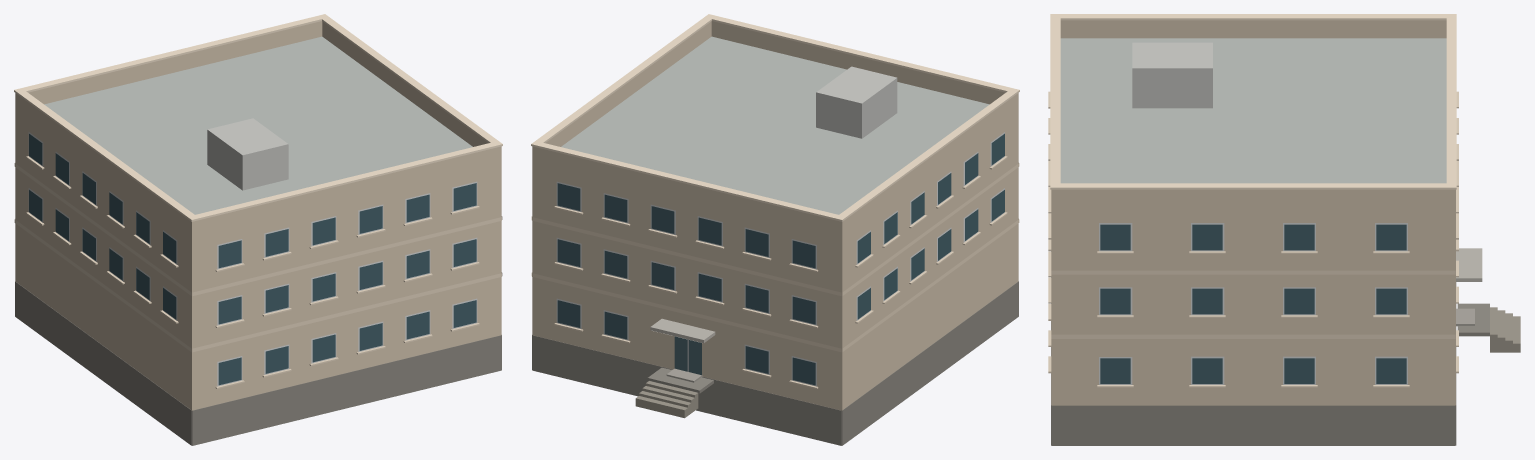
The picture shows the model from 3 angles, left to right: view 1: azimuth 30°, elevation 25°; view 2: azimuth 150°, elevation 25°; view 3: azimuth 270°, elevation 25°; orthographic projection. The views are drawn at different scales.
Parts seen in each view (by area): view 1: w451562720__plaster-wall, w451562720__roof, w451562720__foundation-wall, w451562720__glass, w451562720__coping-stone, w451562720__band-wall, w451562720__box-wall, w451562720__frame; view 2: w451562720__plaster-wall, w451562720__roof, w451562720__foundation-wall, w451562720__glass, w451562720__coping-stone, w451562720__band-wall, w451562720__box-wall, w451562720__frame, w451562720__step-stone, w451562720__door-glass, w451562720__canopy-slab; view 3: w451562720__plaster-wall, w451562720__roof, w451562720__foundation-wall, w451562720__glass, w451562720__coping-stone, w451562720__band-wall, w451562720__box-wall, w451562720__frame, w451562720__step-stone, w451562720__canopy-slab.
Boxes of the visible parts, x1,y1,x2,y2 form: w451562720__plaster-wall: (15, 21, 501, 410); w451562720__roof: (44, 36, 472, 214); w451562720__foundation-wall: (15, 281, 501, 445); w451562720__glass: (29, 134, 476, 385); w451562720__coping-stone: (14, 14, 502, 221); w451562720__band-wall: (14, 156, 502, 388); w451562720__box-wall: (207, 118, 288, 190); w451562720__frame: (28, 132, 477, 386); w451562720__plaster-wall: (532, 21, 1018, 410); w451562720__roof: (561, 36, 989, 214); w451562720__foundation-wall: (532, 281, 1018, 445); w451562720__glass: (557, 133, 1004, 385); w451562720__coping-stone: (531, 14, 1019, 221); w451562720__band-wall: (531, 156, 1019, 388); w451562720__box-wall: (816, 66, 897, 138); w451562720__frame: (556, 132, 1004, 386); w451562720__step-stone: (635, 381, 698, 418); w451562720__door-glass: (674, 336, 701, 375); w451562720__canopy-slab: (650, 318, 715, 343); w451562720__plaster-wall: (1051, 20, 1455, 405); w451562720__roof: (1060, 38, 1446, 183); w451562720__foundation-wall: (1051, 282, 1489, 445); w451562720__glass: (1100, 224, 1406, 383); w451562720__coping-stone: (1050, 14, 1456, 189); w451562720__band-wall: (1048, 91, 1458, 387); w451562720__box-wall: (1132, 42, 1212, 108); w451562720__frame: (1099, 223, 1407, 384); w451562720__step-stone: (1490, 307, 1520, 352); w451562720__canopy-slab: (1456, 248, 1482, 281).
Bounding box in the file's own units: 20.54 × 15.2 × 23.38.
